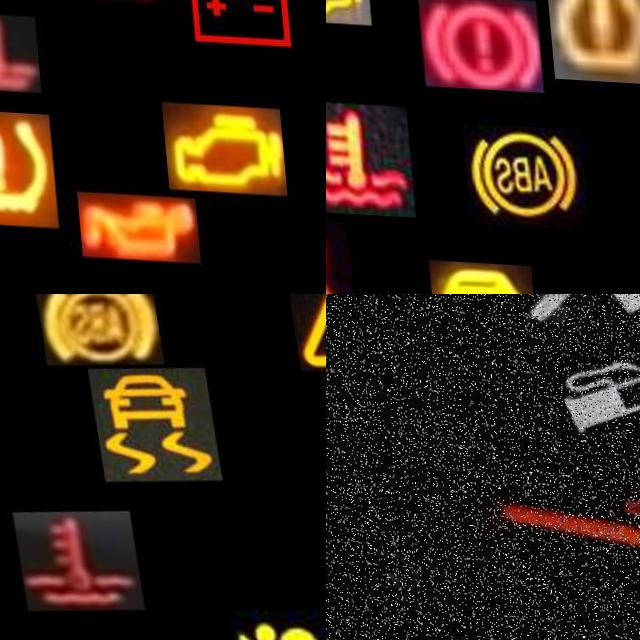Central Warning lamp: (284, 294, 326, 371)
Engine cooling system: (7, 504, 140, 615), (326, 97, 408, 214), (0, 9, 35, 91)
